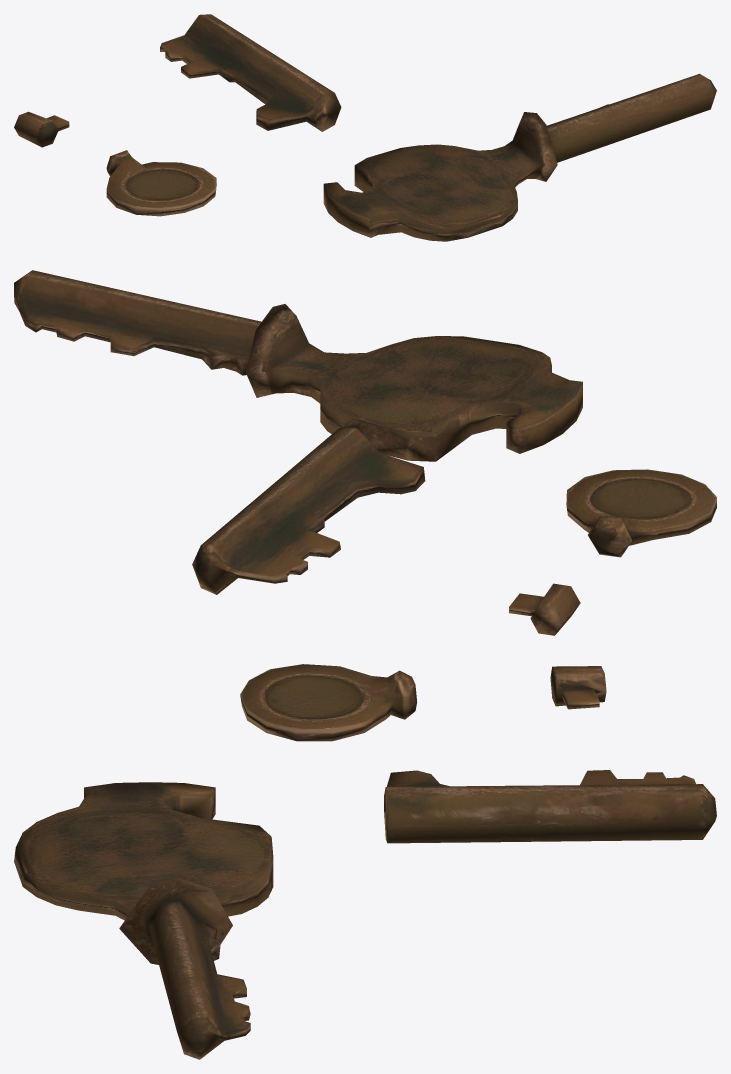
Rendered from Key parts.fbx.
3 views of the same model, one above another, from view 1: azimuth 30°, elevation 25°; view 2: azimuth 150°, elevation 25°; view 3: azimuth 270°, elevation 25° (orthographic). The views are drawn at different scales.
Visible parts, largest first — view 1: tripo_node_168728ea-f99a-4f04-9525-7fc15bced4f9; view 2: tripo_node_168728ea-f99a-4f04-9525-7fc15bced4f9; view 3: tripo_node_168728ea-f99a-4f04-9525-7fc15bced4f9.
Boxes of the visible parts, box(x1,y1,x2,y2) form: tripo_node_168728ea-f99a-4f04-9525-7fc15bced4f9: box(14, 14, 716, 241); tripo_node_168728ea-f99a-4f04-9525-7fc15bced4f9: box(14, 270, 716, 635); tripo_node_168728ea-f99a-4f04-9525-7fc15bced4f9: box(14, 664, 716, 1059).
Bounding box in the file's own units: 99.8 × 11.13 × 78.32.
1 material, 1 textured.
